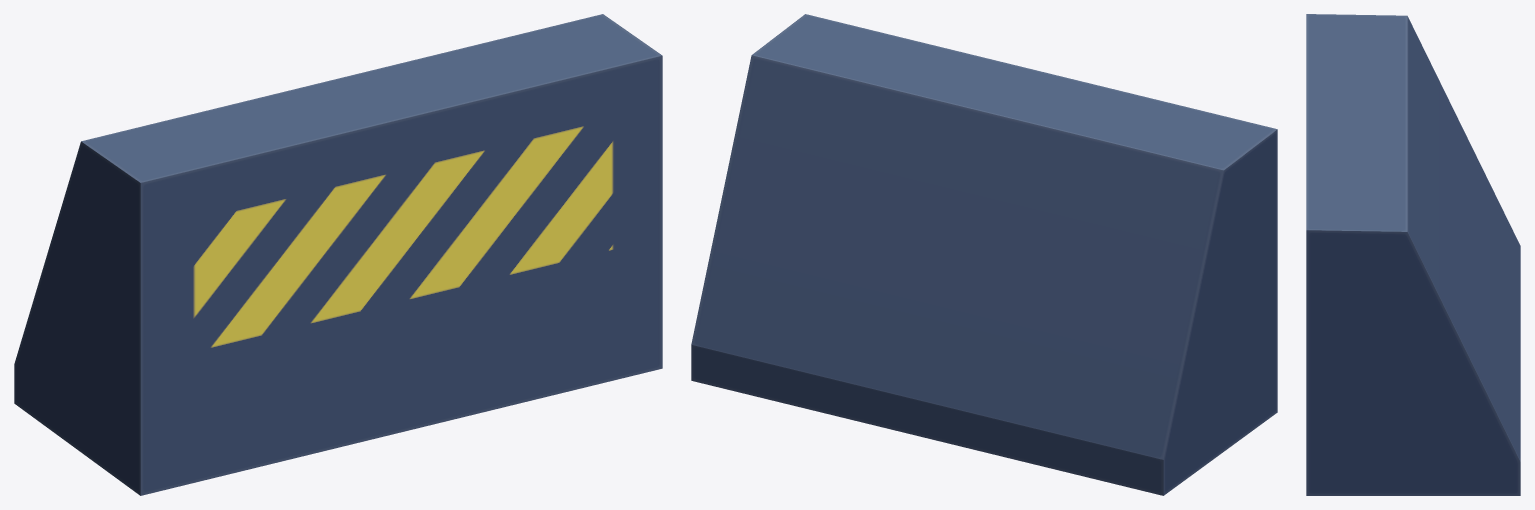
The model's file is dubai_stage_barrier_center.fbx.
The picture shows the model from 3 angles, left to right: view 1: azimuth 30°, elevation 25°; view 2: azimuth 150°, elevation 25°; view 3: azimuth 270°, elevation 25°; orthographic projection. The views are drawn at different scales.
Visible parts, largest first — view 1: Cube.089; view 2: Cube.089; view 3: Cube.089.
Boxes of the visible parts, box(x1,y1,x2,y2) form: Cube.089: box(14, 14, 662, 495); Cube.089: box(691, 14, 1277, 495); Cube.089: box(1306, 14, 1520, 495).
Bounding box in the file's own units: 3356 × 1923 × 1405.
